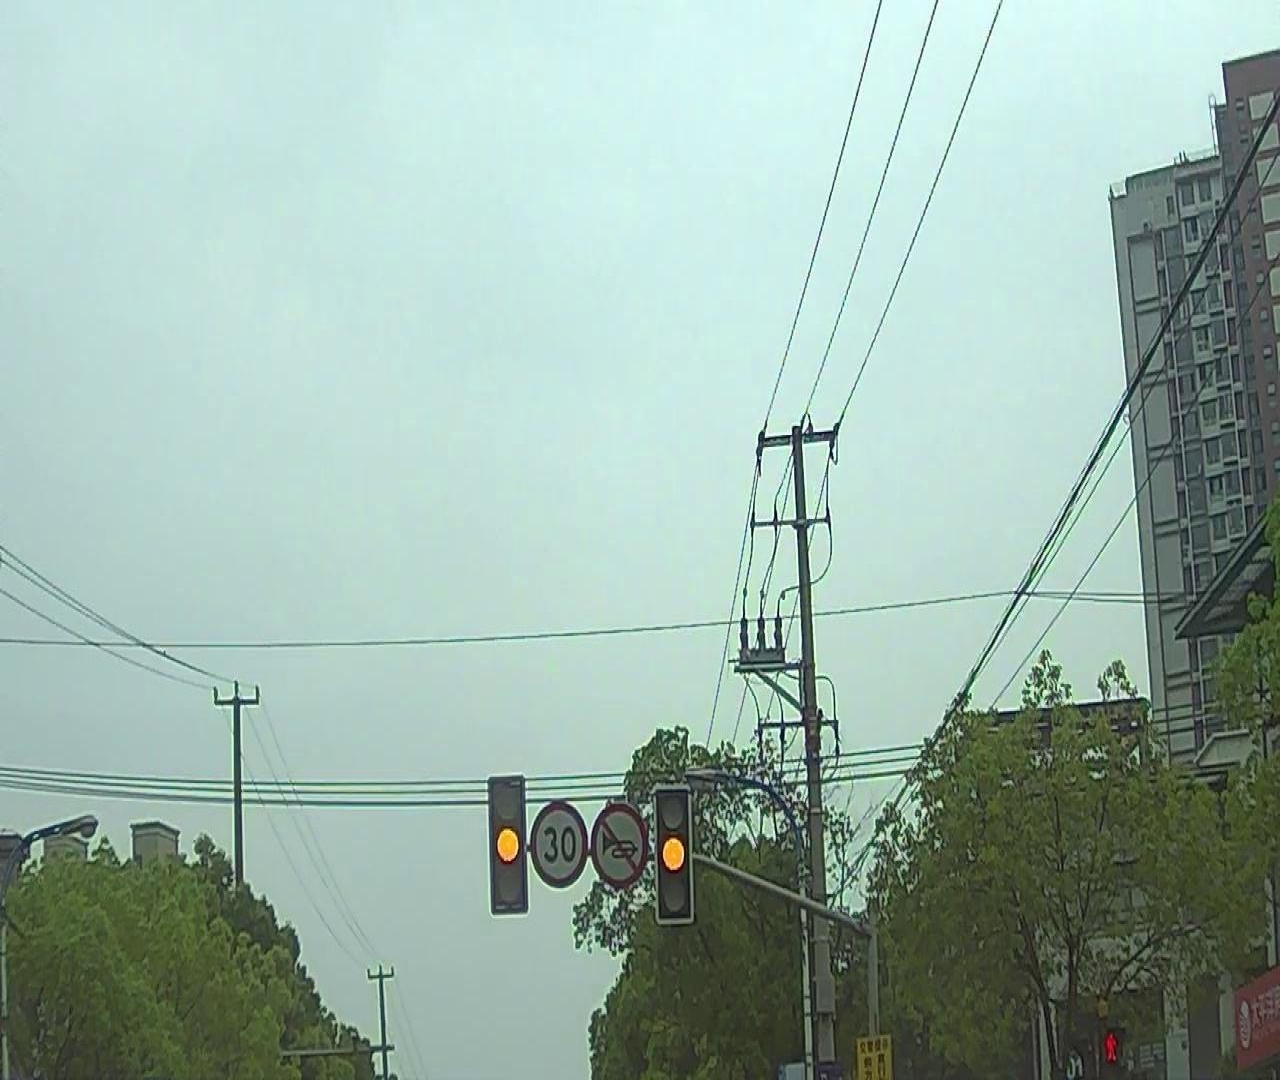yellow: (487, 780, 527, 918), (657, 786, 690, 916)
